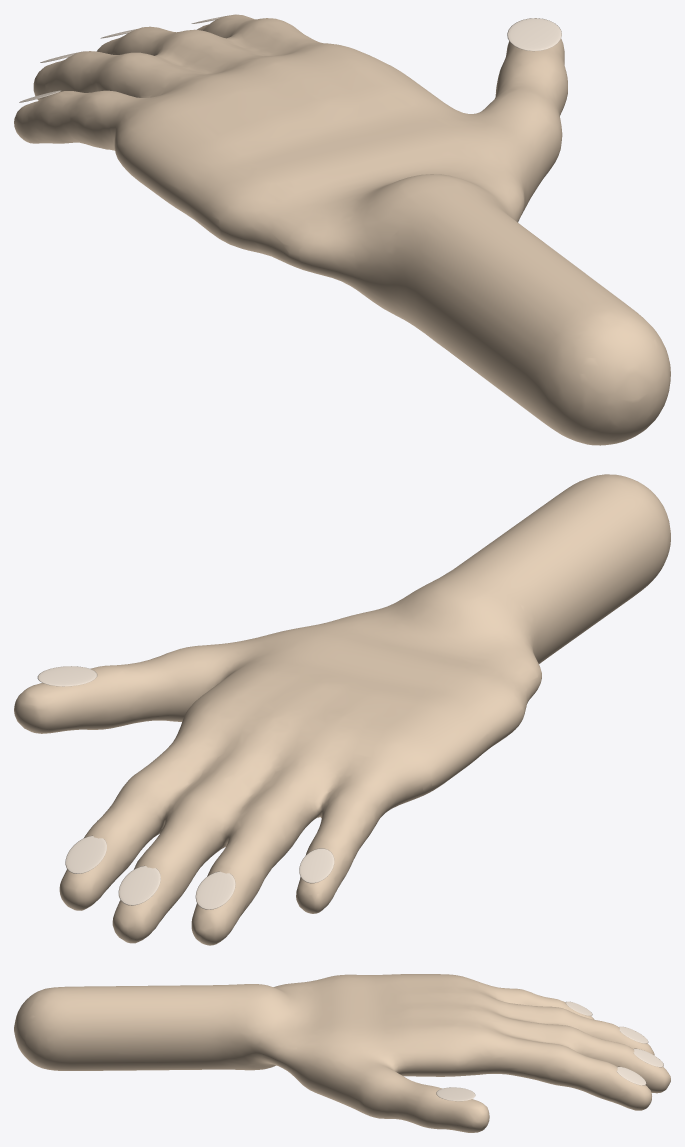
File: hand-left.glb
3 views of the same model, one above another, from view 1: azimuth 30°, elevation 25°; view 2: azimuth 150°, elevation 25°; view 3: azimuth 270°, elevation 25° (orthographic). The views are drawn at different scales.
Parts seen in each view (by area): view 1: hand; view 2: hand; view 3: hand.
Boxes of the visible parts, left/top/right/bottom form: hand: left=14, top=14, right=670, bottom=445; hand: left=14, top=474, right=670, bottom=945; hand: left=14, top=974, right=670, bottom=1132.
Size of the model in its own units: 1.41 by 0.4718 by 2.97.
